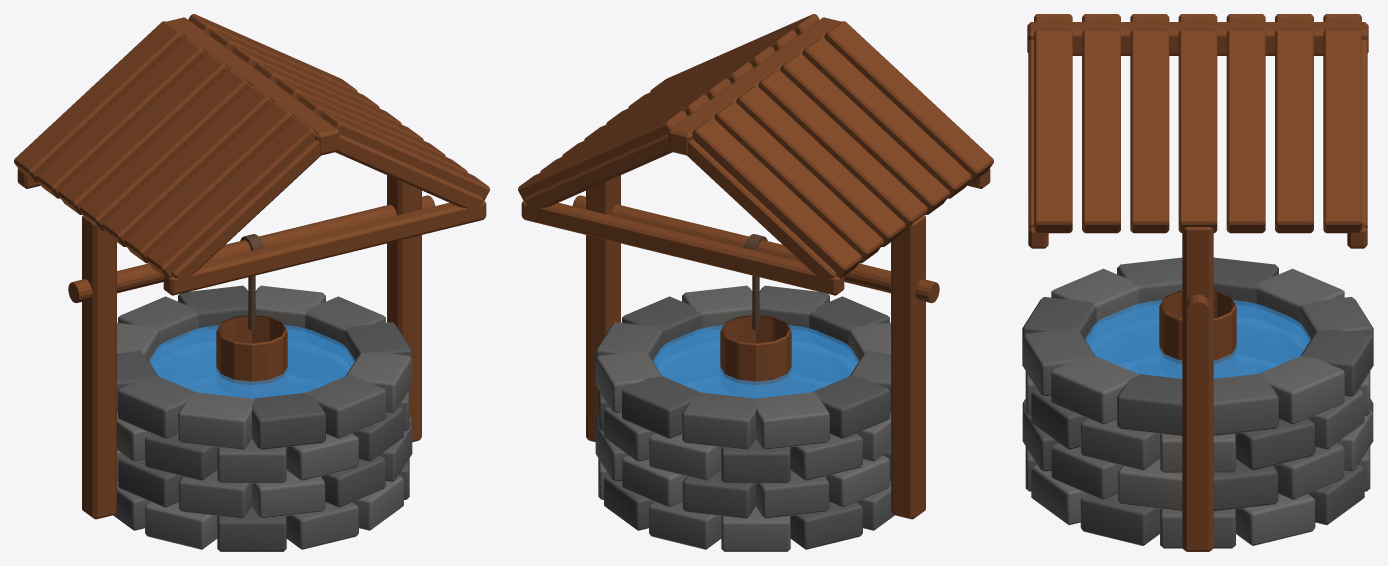
File: WaterWell.glb
3 renders of one model, left to right at view 1: azimuth 30°, elevation 25°; view 2: azimuth 150°, elevation 25°; view 3: azimuth 270°, elevation 25°, orthographic. The views are drawn at different scales.
Visible parts, largest first — view 1: WaterWell_Wood_Frame, WaterWell_Stone_Mid, WaterWell_Stone_Light, WaterWell_Stone_Dark, WaterWell_Water, WaterWell_Rope; view 2: WaterWell_Wood_Frame, WaterWell_Stone_Mid, WaterWell_Stone_Light, WaterWell_Stone_Dark, WaterWell_Water, WaterWell_Rope; view 3: WaterWell_Wood_Frame, WaterWell_Stone_Dark, WaterWell_Stone_Mid, WaterWell_Stone_Light, WaterWell_Water.
Part boxes in pixels (x1,y1,x2,y2): WaterWell_Wood_Frame: [14, 14, 489, 519]; WaterWell_Stone_Mid: [113, 296, 412, 549]; WaterWell_Stone_Light: [117, 285, 412, 549]; WaterWell_Stone_Dark: [117, 285, 412, 551]; WaterWell_Water: [149, 325, 354, 398]; WaterWell_Rope: [240, 234, 263, 330]; WaterWell_Wood_Frame: [518, 14, 993, 519]; WaterWell_Stone_Mid: [595, 285, 894, 549]; WaterWell_Stone_Light: [595, 285, 890, 551]; WaterWell_Stone_Dark: [595, 296, 890, 549]; WaterWell_Water: [653, 325, 858, 398]; WaterWell_Rope: [744, 234, 767, 330]; WaterWell_Wood_Frame: [1027, 14, 1368, 551]; WaterWell_Stone_Dark: [1022, 257, 1373, 545]; WaterWell_Stone_Mid: [1022, 257, 1373, 548]; WaterWell_Stone_Light: [1022, 268, 1373, 545]; WaterWell_Water: [1085, 300, 1310, 378].
Bounding box in the file's own units: 1.22 × 1.35 × 0.9473.
